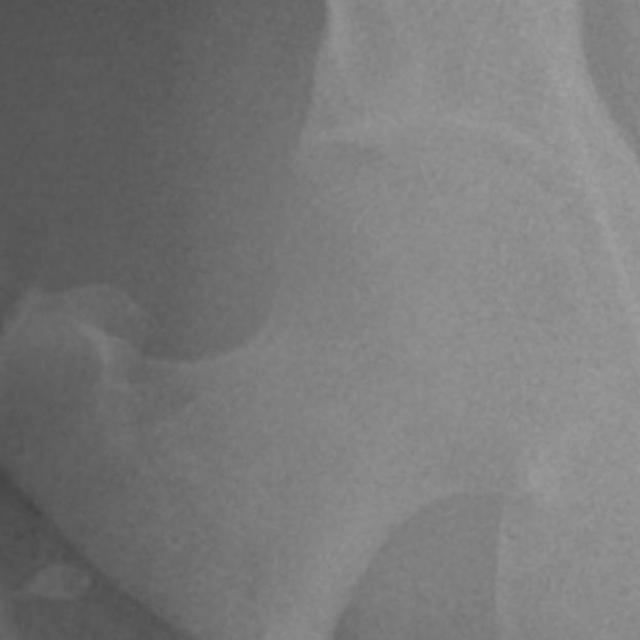Fitted_femural_head: (361, 157, 432, 361)
